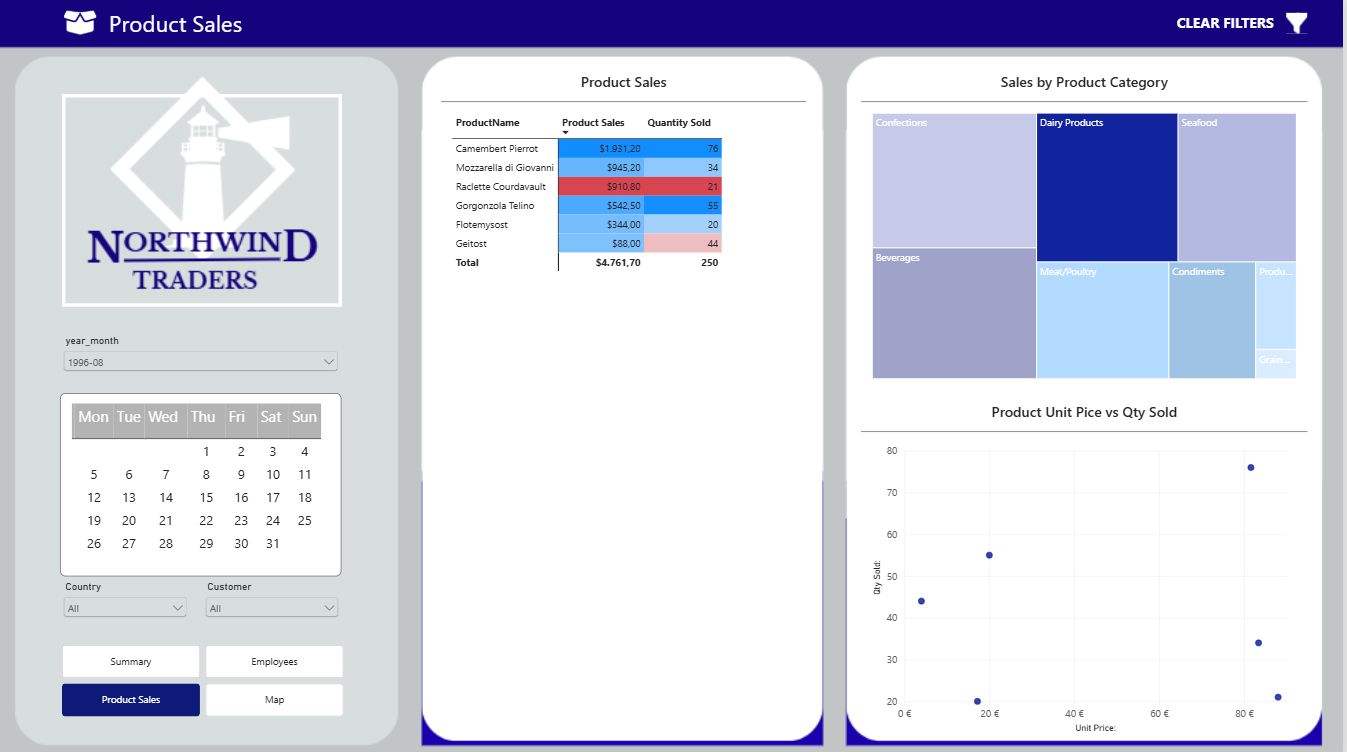

The dashboard page shown, as its layout file describes it:
{"tool":"powerbi","page":{"name":"Product Sales","canvas":[1920,1080],"ordinal":2},"visuals":[{"type":"image","box":[0,0,1920,1080],"z":0},{"type":"treemap","title":"Sales by Product Category","fields":{"Group":["Categories.CategoryName"],"Values":["Mesures.tot_revenue"]},"box":[1230,88,638,468],"z":1000},{"type":"pivotTable","title":"Product Sales","fields":{"Rows":["Products.ProductName"],"Values":["Mesures.tot_revenue","Sum(Order Details.Quantity)"]},"box":[630,88,522,952],"z":2000},{"type":"scatterChart","title":"Product Unit Pice vs Qty Sold","fields":{"Category":["Products.ProductName"],"Series":["Categories.CategoryName"],"X":["Sum(Order Details.UnitPrice)"],"Y":["Sum(Order Details.Quantity)"]},"box":[1230,560,638,502],"z":3000},{"type":"slicer","fields":{"Values":["Suppliers.CompanyName"]},"box":[288,830,200,82],"z":4000},{"type":"slicer","fields":{"Values":["Customers.Country"]},"box":[86,830,186,80],"z":5000},{"type":"pivotTable","fields":{"Columns":["calendar.day_name"],"Rows":["calendar.week_number"],"Values":["Min(calendar.day_number)"]},"box":[86,562,401.7,261.7],"z":6000},{"type":"slicer","fields":{"Values":["calendar.year_month"]},"box":[86,478,402,84],"z":7000},{"type":"pageNavigator","box":[88,922,402,102],"z":8000},{"type":"shape","box":[88,134,400,304],"z":9000},{"type":"image","box":[92,4,46,56],"z":10000},{"type":"textbox","box":[156,10,232,62],"z":11000},{"type":"actionButton","box":[1656,12,176,40],"z":11001},{"type":"actionButton","box":[1832,10,42,46],"z":11002}]}

Visuals, with their boxes in screenshot pixels (x1, y1, x2, y2), scaled from the page's 1920x1080 canvas onto the 1347x752 screenshot:
image: (0, 0, 1346, 751)
"Sales by Product Category" treemap: (863, 61, 1311, 387)
"Product Sales" pivotTable: (442, 61, 808, 724)
"Product Unit Pice vs Qty Sold" scatterChart: (863, 390, 1311, 739)
slicer - Suppliers.CompanyName: (202, 578, 342, 635)
slicer - Customers.Country: (60, 578, 191, 634)
pivotTable - calendar.day_name x calendar.week_number: (60, 391, 342, 574)
slicer - calendar.year_month: (60, 333, 342, 391)
pageNavigator: (62, 642, 344, 713)
shape: (62, 93, 342, 305)
image: (65, 3, 97, 42)
textbox: (109, 7, 272, 50)
actionButton: (1162, 8, 1285, 36)
actionButton: (1285, 7, 1315, 39)
